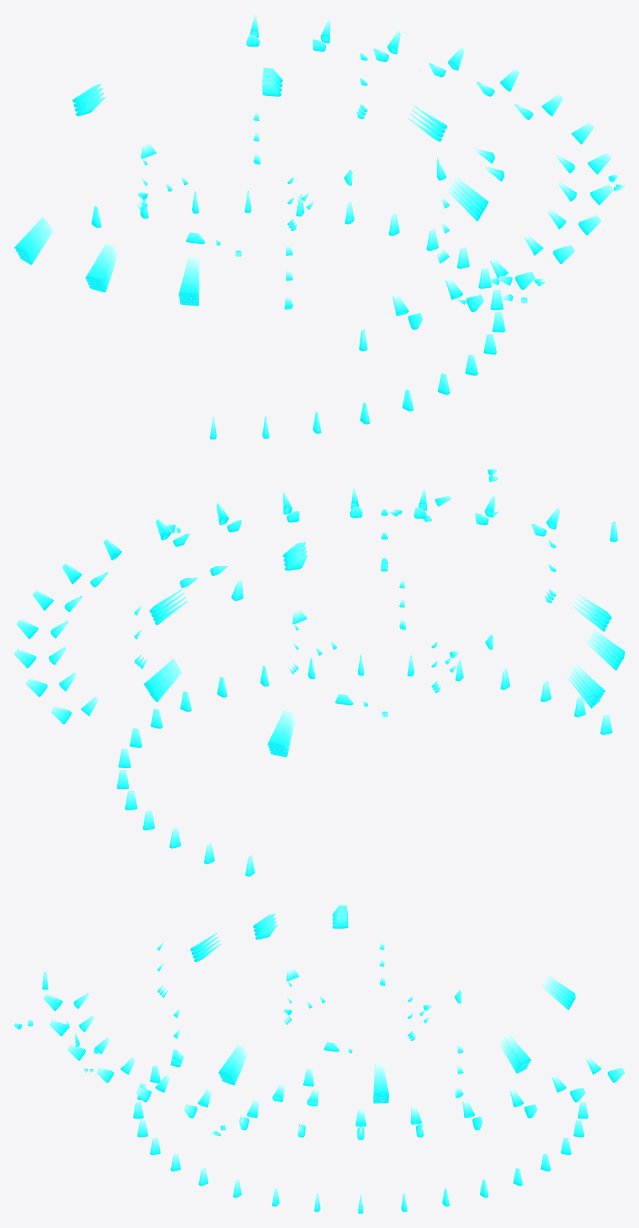
The model's file is structure.gltf.
The picture shows the model from 3 angles, top to bottom: view 1: azimuth 30°, elevation 25°; view 2: azimuth 150°, elevation 25°; view 3: azimuth 270°, elevation 25°; orthographic projection. The views are drawn at different scales.
Visible parts, largest first — view 1: LightShaft069; view 2: no part large enough to name; view 3: no part large enough to name.
Boxes of the visible parts, x1=… form: LightShaft069: x1=178, y1=258, x2=198, y2=297.
Bounding box in the file's own units: 154 × 47.54 × 177.
Materials: 1 (1 with a texture image).
